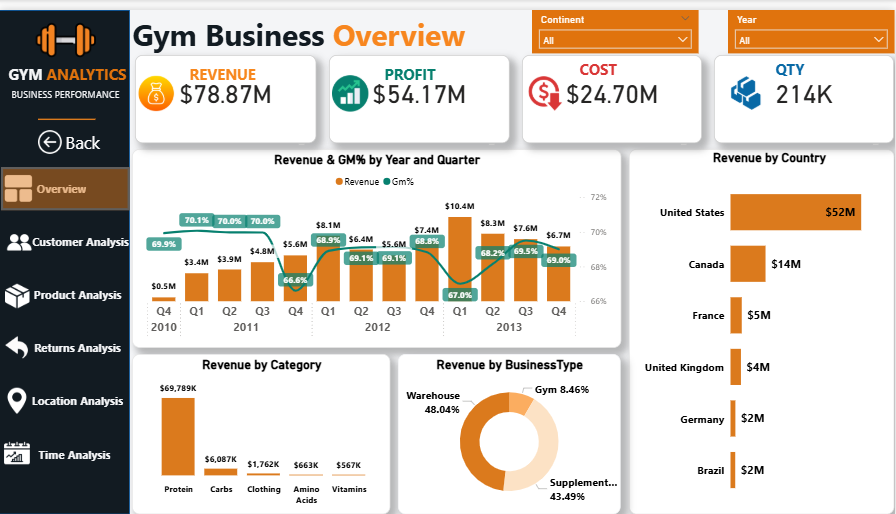

The dashboard page shown, as its layout file describes it:
{"tool":"powerbi","page":{"name":"Overview","canvas":[1280,720],"ordinal":1},"visuals":[{"type":"slicer","fields":{"Values":["Date Table.Year"]},"box":[1041.2,0,238.2,61.8],"z":0},{"type":"slicer","fields":{"Values":["Customer.Continent"]},"box":[761.8,0,238.2,61.8],"z":1000},{"type":"shape","box":[0,0,186.8,720.6],"z":2000},{"type":"image","box":[1.4,0,188.5,86.5],"z":3000},{"type":"lineStackedColumnComboChart","title":"Revenue & GM% by Year and Quarter","fields":{"Category":["Date Table.Year","Date Table.Quarter"],"Y":["Calculations.Revenue"],"Y2":["Calculations.Gm%"]},"box":[189.7,198.5,698.5,283.8],"z":4000},{"type":"clusteredColumnChart","title":"Revenue by Category","fields":{"Category":["Product.CategoryName"],"Y":["Calculations.Revenue"]},"box":[189.7,491.2,369.1,229.4],"z":5000},{"type":"clusteredBarChart","title":"Revenue by Country","fields":{"Category":["Customer.CountryName"],"Y":["Calculations.Revenue"]},"box":[900,198.5,379.4,522.1],"z":6000},{"type":"donutChart","title":"Revenue by BusinessType","fields":{"Category":["Customer.BusinessType"],"Y":["Calculations.Revenue"]},"box":[570.6,491.2,317.6,229.4],"z":7000},{"type":"card","title":"Revenue","fields":{"Values":["Calculations.Revenue"]},"box":[194.1,64.7,258.8,126.5],"z":8000},{"type":"textbox","box":[8.8,72.1,194.1,52.9],"z":9000},{"type":"textbox","box":[13.2,107.4,173.5,35.3],"z":10000},{"type":"textbox","box":[186.2,0,567.7,86.2],"z":11000},{"type":"actionButton","box":[38.2,311.2,155.9,39.7],"z":12000},{"type":"image","box":[55.9,169.1,33.8,39.7],"z":13000},{"type":"textbox","box":[89.3,167.2,59.5,42.5],"z":14000},{"type":"image","box":[7.4,233.8,41.2,41.2],"z":15000},{"type":"image","box":[8.8,313.2,41.2,38.2],"z":16000},{"type":"actionButton","box":[33.8,462.9,155.9,39.7],"z":17000},{"type":"image","box":[8.8,386.8,35.3,42.6],"z":18000},{"type":"actionButton","box":[33.8,387.1,155.9,39.7],"z":19000},{"type":"actionButton","box":[29.8,615.1,155.9,39.7],"z":20000},{"type":"actionButton","box":[33.8,538.8,155.9,39.7],"z":21000},{"type":"image","box":[4.4,466.2,42.6,32.4],"z":22000},{"type":"image","box":[7.4,538.2,36.8,39.7],"z":23000},{"type":"actionButton","box":[11.8,235.3,155.9,39.7],"z":24000},{"type":"shape","box":[55.9,139.7,82.4,32.4],"z":25000},{"type":"image","box":[7.4,611.8,36.8,42.6],"z":26000},{"type":"actionButton","box":[2.9,225,183.8,61.8],"z":27000},{"type":"actionButton","box":[0,376.5,186.8,61.8],"z":28000},{"type":"actionButton","box":[1.5,451.5,186.8,61.8],"z":29000},{"type":"actionButton","box":[0,527.9,186.8,61.8],"z":30000},{"type":"textbox","box":[194.1,160.3,247.1,38.2],"z":31000},{"type":"textbox","box":[267.6,72.1,122.1,42.6],"z":32000},{"type":"image","box":[199,86.5,52,63.8],"z":33000},{"type":"card","title":"Revenue","fields":{"Values":["Calculations.Profit"]},"box":[470.9,64.7,258,126.5],"z":34000},{"type":"textbox","box":[545.6,72.1,126.5,42.6],"z":35000},{"type":"image","box":[475,86.5,52.4,63.8],"z":36000},{"type":"textbox","box":[473.5,160.3,239.7,38.2],"z":37000},{"type":"card","fields":{"Values":["Calculations.Arrow(Revenue)"]},"box":[408.8,145.6,54.4,52.9],"z":38000},{"type":"card","fields":{"Values":["Calculations.Arrow(profit)"]},"box":[694.1,145.6,44.1,50],"z":39000},{"type":"card","title":"Revenue","fields":{"Values":["Calculations.Total Cost"]},"box":[746.8,64.7,257.4,126.5],"z":40000},{"type":"card","title":"Revenue","fields":{"Values":["Calculations.Qty"]},"box":[1022.1,64.7,257.4,126.5],"z":41000},{"type":"textbox","box":[825,64.7,126.5,42.6],"z":42000},{"type":"image","box":[754,86.5,52.4,63.8],"z":43000},{"type":"textbox","box":[747.1,160.3,239.7,38.2],"z":44000},{"type":"card","fields":{"Values":["Calculations.Arrow(cost)"]},"box":[964.7,147.1,44.1,50],"z":45000},{"type":"textbox","box":[1104.4,64.7,126.5,42.6],"z":46000},{"type":"textbox","box":[1022.1,160.3,239.7,38.2],"z":47000},{"type":"card","fields":{"Values":["Calculations.Arrow(profit)"]},"box":[1242.6,145.6,36.8,50],"z":48000},{"type":"image","box":[1041.2,86.8,51.5,63.2],"z":49000},{"type":"actionButton","box":[0,300,186.8,61.8],"z":50000},{"type":"textbox","title":"Var From LY","box":[255.4,143.1,123.1,20],"z":51000},{"type":"textbox","title":"Var From LY","box":[538.5,143.1,123.1,20],"z":52000},{"type":"textbox","title":"Var From LY","box":[813.8,140,123.1,20],"z":53000},{"type":"textbox","title":"Var From LY","box":[1080,140,123.1,20],"z":54000},{"type":"actionButton","box":[0,604.4,186.8,61.8],"z":55000},{"type":"actionButton","box":[48.2,167.2,100.6,42.5],"z":56000}]}

Visuals, with their boxes in screenshot pixels (x1, y1, x2, y2), scaled from the page's 1280x720 canvas onto the 896x514 screenshot:
slicer - Date Table.Year: bbox=(729, 0, 895, 44)
slicer - Customer.Continent: bbox=(533, 0, 700, 44)
shape: bbox=(0, 0, 131, 513)
image: bbox=(1, 0, 133, 62)
"Revenue & GM% by Year and Quarter" lineStackedColumnComboChart: bbox=(133, 142, 622, 344)
"Revenue by Category" clusteredColumnChart: bbox=(133, 351, 391, 513)
"Revenue by Country" clusteredBarChart: bbox=(630, 142, 895, 513)
"Revenue by BusinessType" donutChart: bbox=(399, 351, 622, 513)
"Revenue" card: bbox=(136, 46, 317, 136)
textbox: bbox=(6, 51, 142, 89)
textbox: bbox=(9, 77, 131, 102)
textbox: bbox=(130, 0, 528, 62)
actionButton: bbox=(27, 222, 136, 251)
image: bbox=(39, 121, 63, 149)
textbox: bbox=(63, 119, 104, 150)
image: bbox=(5, 167, 34, 196)
image: bbox=(6, 224, 35, 251)
actionButton: bbox=(24, 330, 133, 359)
image: bbox=(6, 276, 31, 307)
actionButton: bbox=(24, 276, 133, 305)
actionButton: bbox=(21, 439, 130, 467)
actionButton: bbox=(24, 385, 133, 413)
image: bbox=(3, 333, 33, 356)
image: bbox=(5, 384, 31, 413)
actionButton: bbox=(8, 168, 117, 196)
shape: bbox=(39, 100, 97, 123)
image: bbox=(5, 437, 31, 467)
actionButton: bbox=(2, 161, 131, 205)
actionButton: bbox=(0, 269, 131, 313)
actionButton: bbox=(1, 322, 132, 366)
actionButton: bbox=(0, 377, 131, 421)
textbox: bbox=(136, 114, 309, 142)
textbox: bbox=(187, 51, 273, 82)
image: bbox=(139, 62, 176, 107)
"Revenue" card: bbox=(330, 46, 510, 136)
textbox: bbox=(382, 51, 470, 82)
image: bbox=(332, 62, 369, 107)
textbox: bbox=(331, 114, 499, 142)
card - Calculations.Arrow(Revenue): bbox=(286, 104, 324, 142)
card - Calculations.Arrow(profit): bbox=(486, 104, 517, 140)
"Revenue" card: bbox=(523, 46, 703, 136)
"Revenue" card: bbox=(715, 46, 895, 136)
textbox: bbox=(578, 46, 666, 77)
image: bbox=(528, 62, 564, 107)
textbox: bbox=(523, 114, 691, 142)
card - Calculations.Arrow(cost): bbox=(675, 105, 706, 141)
textbox: bbox=(773, 46, 862, 77)
textbox: bbox=(715, 114, 883, 142)
card - Calculations.Arrow(profit): bbox=(870, 104, 895, 140)
image: bbox=(729, 62, 765, 107)
actionButton: bbox=(0, 214, 131, 258)
"Var From LY" textbox: bbox=(179, 102, 265, 116)
"Var From LY" textbox: bbox=(377, 102, 463, 116)
"Var From LY" textbox: bbox=(570, 100, 656, 114)
"Var From LY" textbox: bbox=(756, 100, 842, 114)
actionButton: bbox=(0, 431, 131, 476)
actionButton: bbox=(34, 119, 104, 150)
